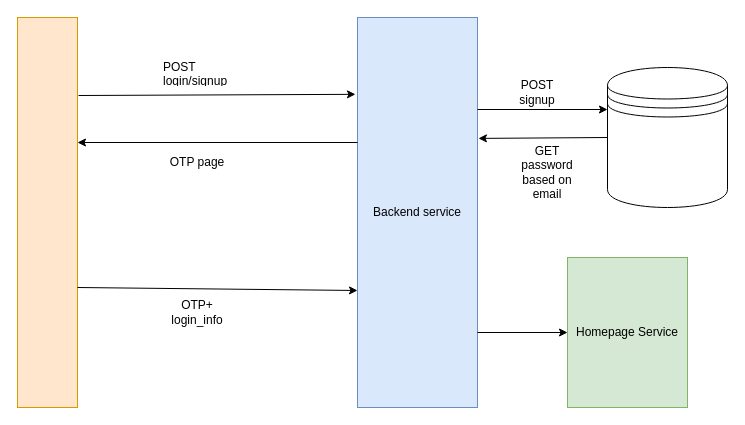
The diagram is 745 pixels wide and 425 high, and some of its shapes have lost their labels. Here are the shapes that lost their labels. From the top down, the centre of each, then its label:
At (x=667, y=137): "Users DB".
At (x=47, y=212): "Frontend".
